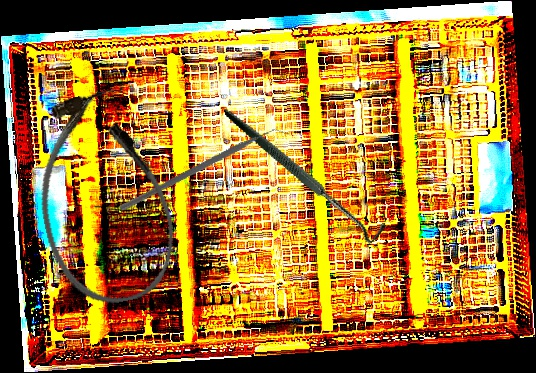Cannula: (20, 82, 186, 315)
Chopper: (118, 77, 291, 266)
Hook Surgical: (222, 68, 391, 277)
